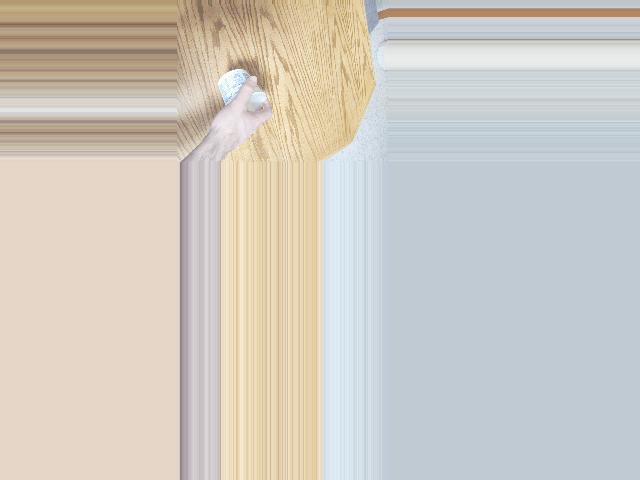cotage: (212, 67, 267, 111)
